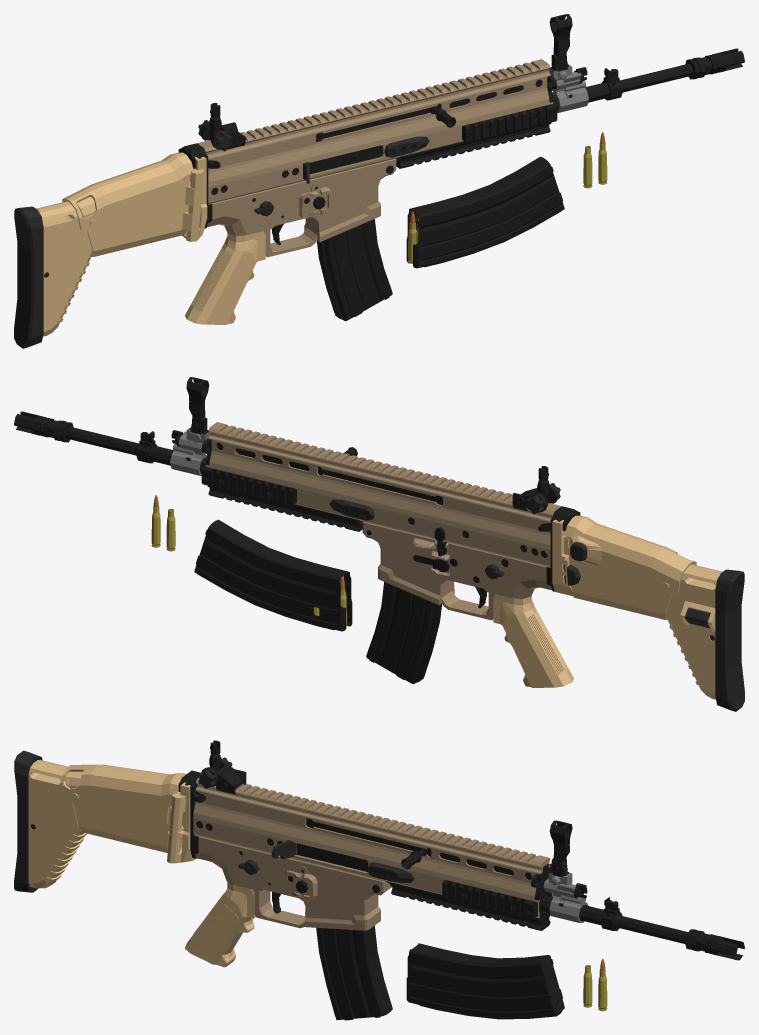
Rendered from gun_scarl_du_light.glb.
3 views of the same model, one above another, from view 1: azimuth 30°, elevation 25°; view 2: azimuth 150°, elevation 25°; view 3: azimuth 330°, elevation 25° (orthographic).
Parts seen in each view (by area): view 1: scarlstd upper receiver_10, 55645 ar15 30rnd mag (steel)_17, scarlstd lower receiver_2, scarlstd stock butt_6, scarlstd stock cheek_7, 55645 ar15 30rnd mag empty (steel)_18, scarlstd pistol grip_4, scarlstd stock_8, scarlstd barrel_0, scarlstd bolt carrier_1, scarlstd rear iron sight_9, scarlstd flash hider_5 (+1 smaller); view 2: scarlstd upper receiver_10, 55645 ar15 30rnd mag (steel)_17, scarlstd lower receiver_2, scarlstd stock butt_6, scarlstd stock cheek_7, 55645 ar15 30rnd mag empty (steel)_18, scarlstd pistol grip_4, scarlstd barrel_0, scarlstd stock_8, scarlstd bolt carrier_1, scarlstd rear iron sight_9, scarlstd flash hider_5 (+1 smaller); view 3: scarlstd upper receiver_10, 55645 ar15 30rnd mag (steel)_17, scarlstd lower receiver_2, scarlstd stock butt_6, 55645 ar15 30rnd mag empty (steel)_18, scarlstd stock cheek_7, scarlstd barrel_0, scarlstd pistol grip_4, scarlstd stock_8, scarlstd bolt carrier_1, scarlstd rear iron sight_9, scarlstd flash hider_5 (+1 smaller).
Boxes of the visible parts, <box> form: scarlstd upper receiver_10: <box>178,59,557,241</box>; 55645 ar15 30rnd mag (steel)_17: <box>406,156,564,268</box>; scarlstd lower receiver_2: <box>207,158,396,257</box>; scarlstd stock butt_6: <box>14,201,92,348</box>; scarlstd stock cheek_7: <box>62,152,193,231</box>; 55645 ar15 30rnd mag empty (steel)_18: <box>317,219,392,321</box>; scarlstd pistol grip_4: <box>185,231,265,324</box>; scarlstd stock_8: <box>76,181,202,256</box>; scarlstd barrel_0: <box>382,54,693,158</box>; scarlstd bolt carrier_1: <box>309,85,523,174</box>; scarlstd rear iron sight_9: <box>198,103,245,151</box>; scarlstd flash hider_5: <box>685,48,744,79</box>; scarlstd upper receiver_10: <box>201,422,580,596</box>; 55645 ar15 30rnd mag (steel)_17: <box>194,519,352,631</box>; scarlstd lower receiver_2: <box>362,521,551,620</box>; scarlstd stock butt_6: <box>666,564,744,711</box>; scarlstd stock cheek_7: <box>565,515,696,594</box>; 55645 ar15 30rnd mag empty (steel)_18: <box>366,582,441,684</box>; scarlstd pistol grip_4: <box>493,594,573,687</box>; scarlstd barrel_0: <box>65,417,362,521</box>; scarlstd stock_8: <box>563,543,671,619</box>; scarlstd bolt carrier_1: <box>235,447,442,504</box>; scarlstd rear iron sight_9: <box>512,466,560,514</box>; scarlstd flash hider_5: <box>14,411,73,442</box>; scarlstd upper receiver_10: <box>167,770,553,930</box>; 55645 ar15 30rnd mag (steel)_17: <box>406,943,564,1019</box>; scarlstd lower receiver_2: <box>195,835,391,930</box>; scarlstd stock butt_6: <box>14,750,86,892</box>; 55645 ar15 30rnd mag empty (steel)_18: <box>316,925,392,1020</box>; scarlstd stock cheek_7: <box>62,764,186,825</box>; scarlstd barrel_0: <box>386,858,687,943</box>; scarlstd pistol grip_4: <box>185,882,255,967</box>; scarlstd stock_8: <box>68,771,183,854</box>; scarlstd bolt carrier_1: <box>297,818,513,875</box>; scarlstd rear iron sight_9: <box>198,740,246,794</box>; scarlstd flash hider_5: <box>685,929,744,960</box>.
Size of the model in its own units: 8.52 by 2.8 by 0.7308.
